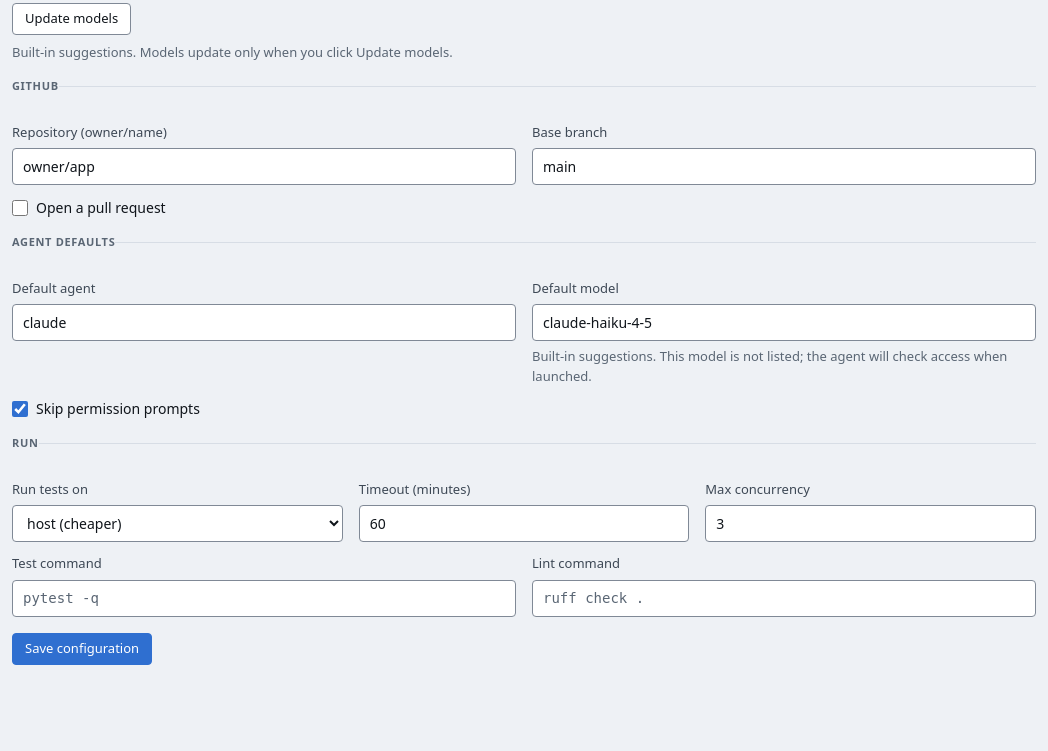
Test: ConfigEditor › requires a typed confirmation before a host-run test command
Type "make test" into the field labelled "Test command" at (264, 598), box [12,580,516,616]
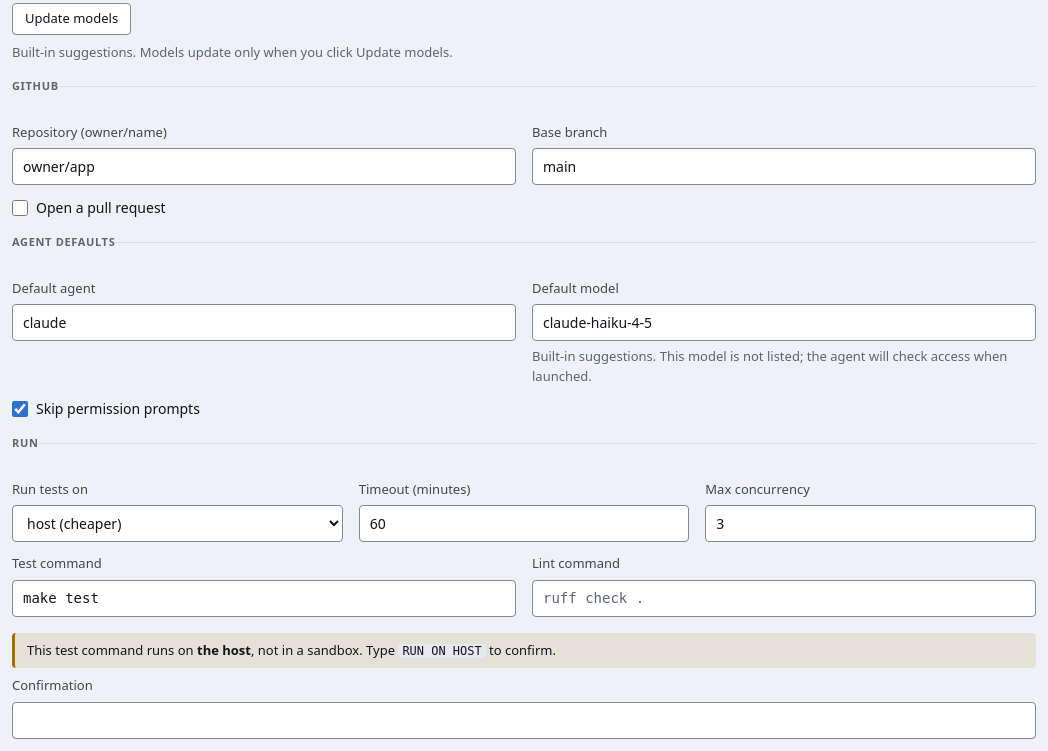
Check: the message shows "runs on", box [27,640,197,658]
Type "RUN ON HOST" into the field labelled "Confirmation" at (524, 720), box [12,702,1036,739]
(page scrolled)
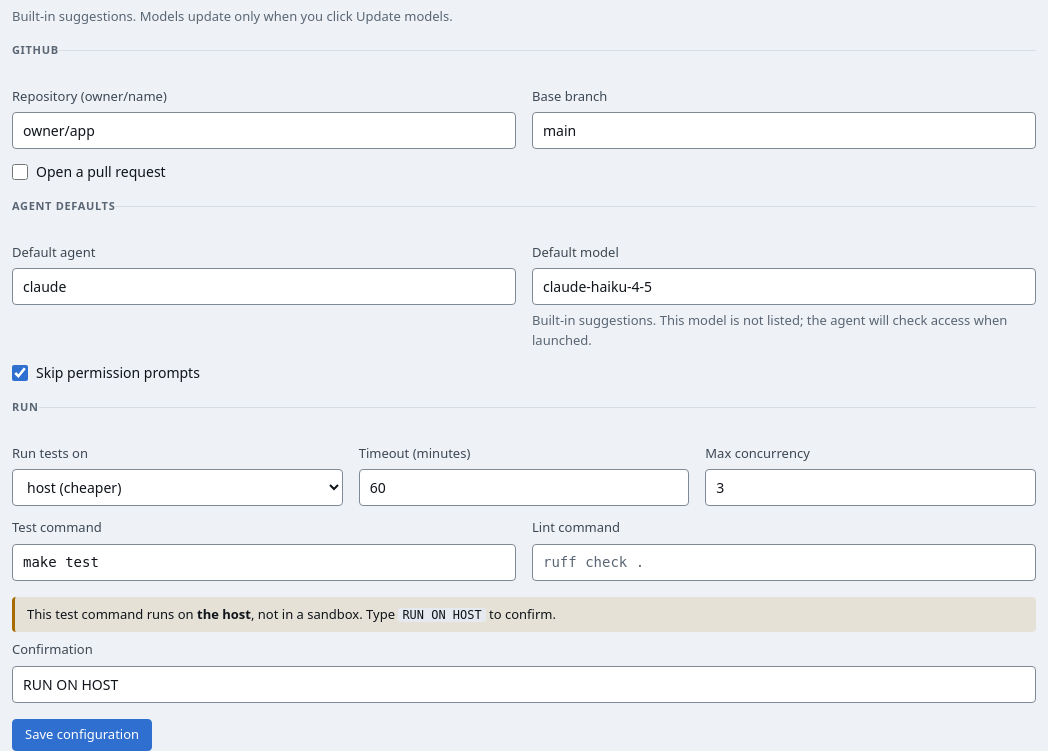
Check: the button "Save configuration" is enabled, box [12,719,152,750]
